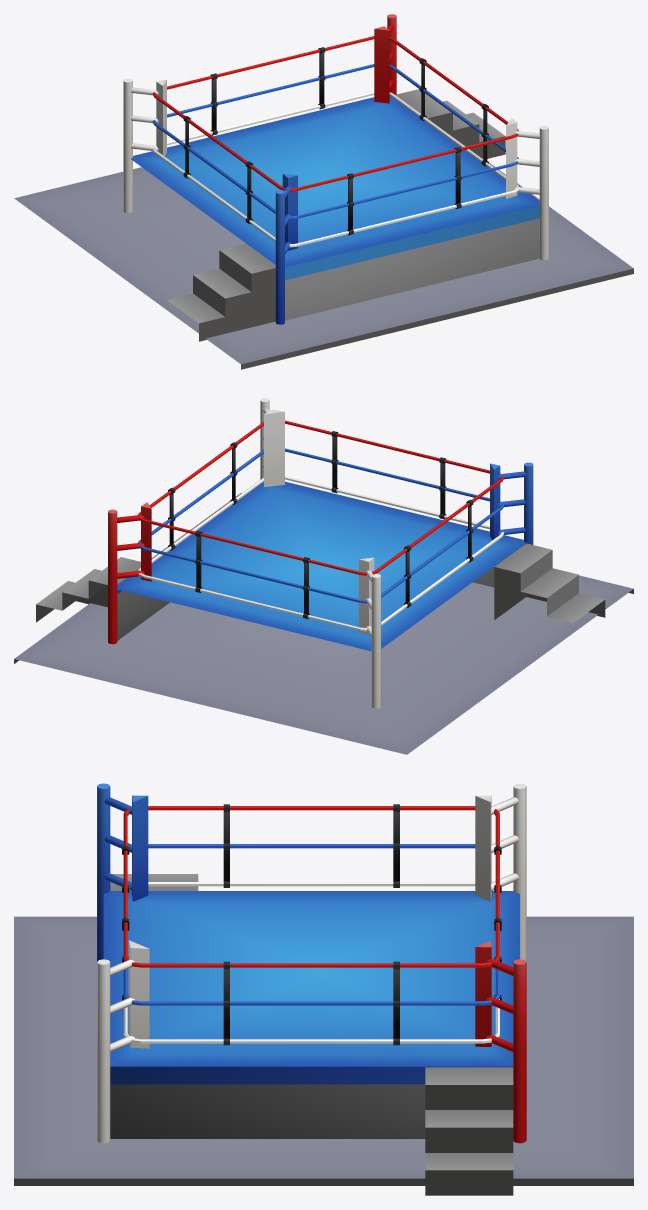
Rendered from bc_boxingring_01.FBX.
The picture shows the model from 3 angles, top to bottom: view 1: azimuth 30°, elevation 25°; view 2: azimuth 150°, elevation 25°; view 3: azimuth 270°, elevation 25°; orthographic projection. The views are drawn at different scales.
Parts seen in each view (by area): view 1: bc_boxingring_01; view 2: bc_boxingring_01; view 3: bc_boxingring_01.
Boxes of the visible parts, left/top/right/bottom form: bc_boxingring_01: left=14, top=14, right=633, bottom=369; bc_boxingring_01: left=14, top=398, right=633, bottom=754; bc_boxingring_01: left=14, top=783, right=633, bottom=1195.
Bounding box in the file's own units: 400 × 372 × 125.
